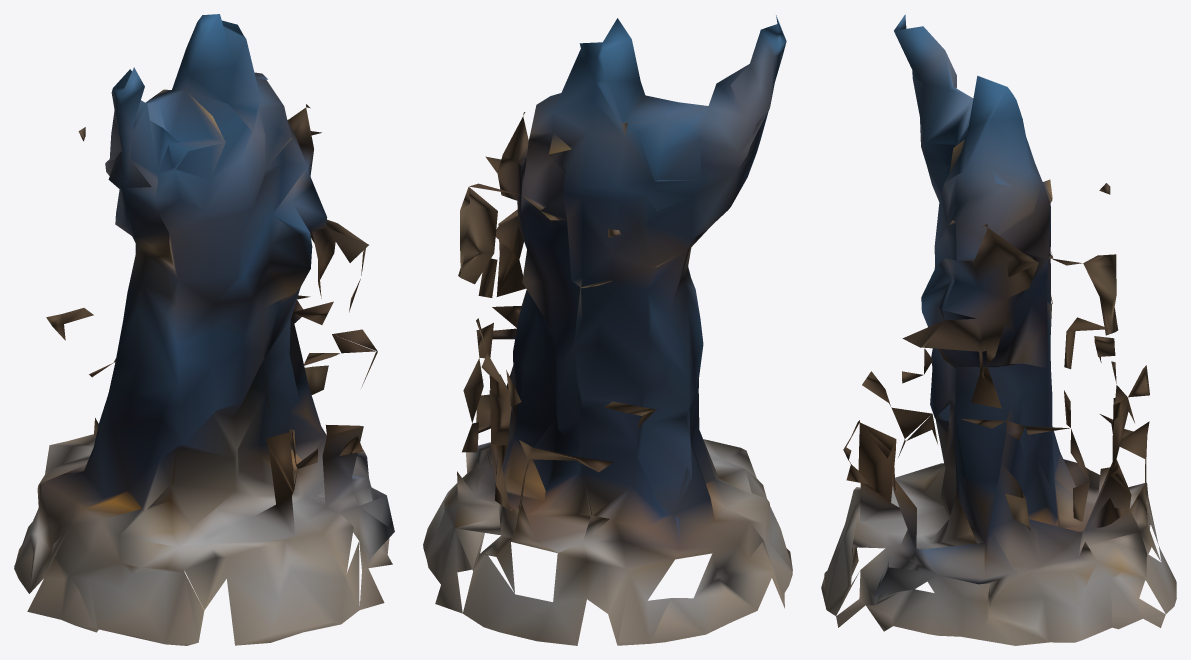
Rendered from landmark_colossus.glb.
3 views of the same model, side by side, from view 1: azimuth 30°, elevation 25°; view 2: azimuth 150°, elevation 25°; view 3: azimuth 270°, elevation 25° (orthographic). The views are drawn at different scales.
Parts seen in each view (by area): view 1: geometry_0; view 2: geometry_0; view 3: geometry_0.
Boxes of the visible parts, bbox=[...] form: geometry_0: bbox=[14, 14, 394, 645]; geometry_0: bbox=[423, 15, 792, 645]; geometry_0: bbox=[821, 14, 1176, 645].
Size of the model in its own units: 15.43 by 24 by 14.82.
